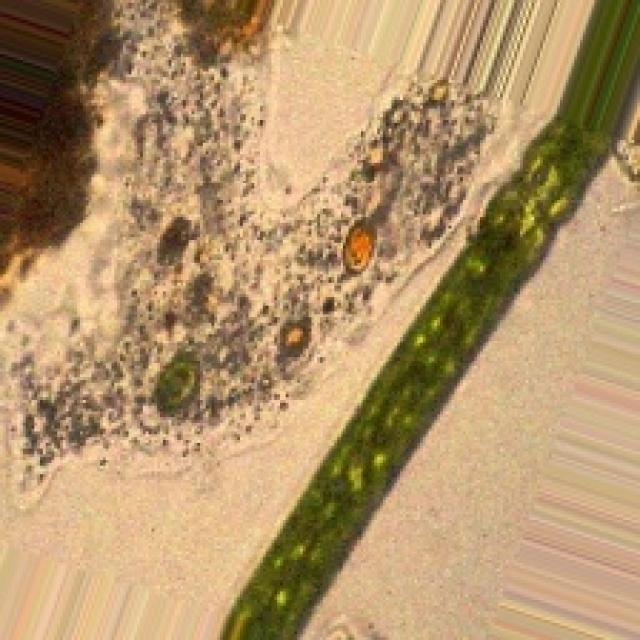Amoeba: (0, 9, 500, 514)
